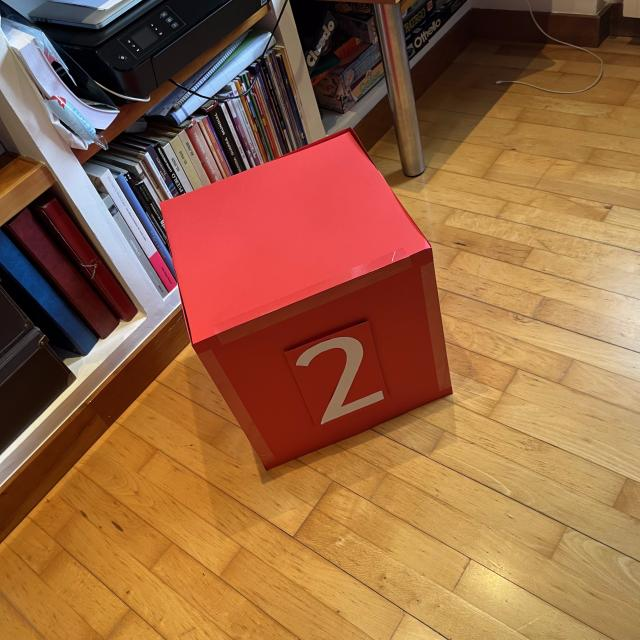box: (157, 125, 456, 472)
